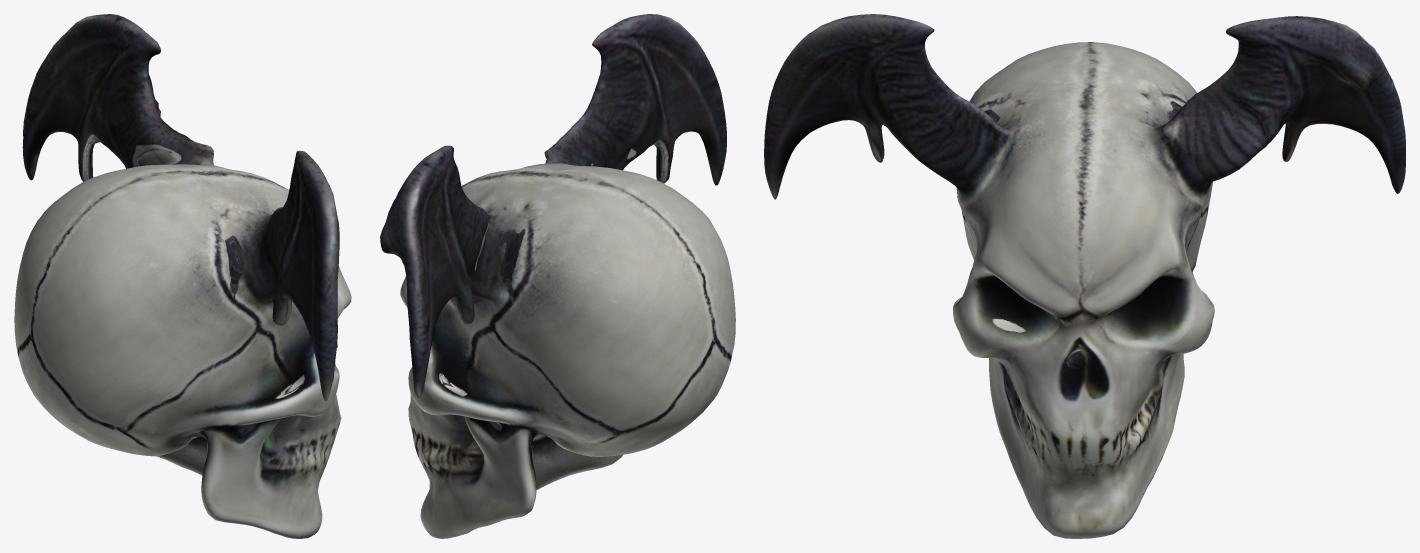
File: Skull 3.fbx
The picture shows the model from 3 angles, left to right: view 1: azimuth 30°, elevation 25°; view 2: azimuth 150°, elevation 25°; view 3: azimuth 270°, elevation 25°; orthographic projection. The views are drawn at different scales.
Parts seen in each view (by area): view 1: mesh; view 2: mesh; view 3: mesh.
Part boxes in pixels (box(x1,y1,x2,y2)): mesh: box(14, 14, 351, 538); mesh: box(380, 14, 735, 538); mesh: box(764, 14, 1405, 538).
Size of the model in its own units: 56.63 by 82.36 by 99.95.
